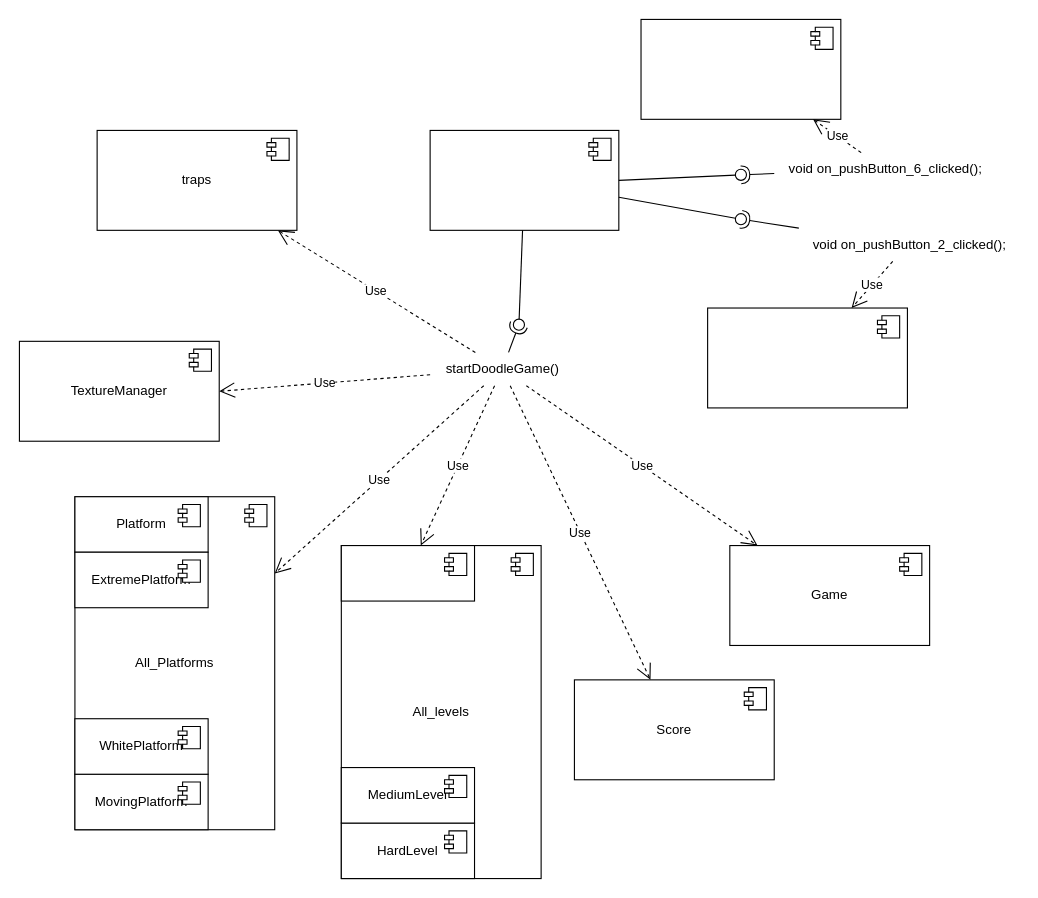
Image size: 1038x898. Some labels were removed from this diagram. The shapes that lost their labels are listed below. From the top down, each one's centre as x and y in pixels, then its label:
[740,68]: Tutorial
[524,179]: MainWindow
[807,357]: Settings
[407,572]: EasyLevel
